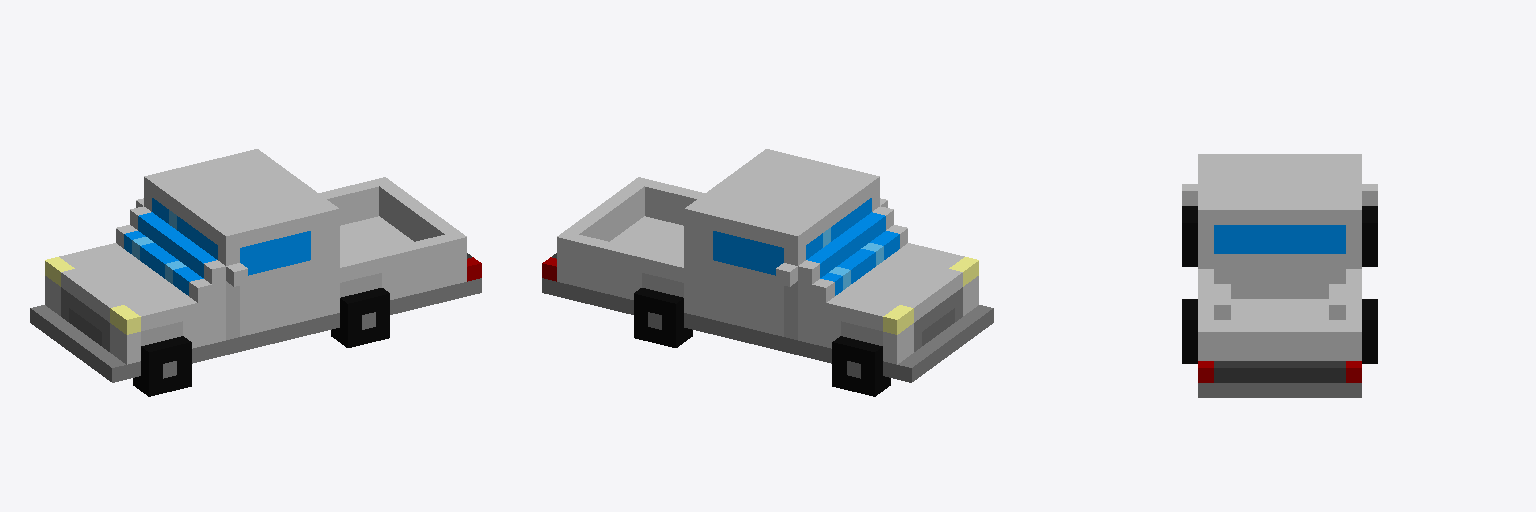
The picture shows the model from 3 angles: view 1: azimuth 30°, elevation 25°; view 2: azimuth 150°, elevation 25°; view 3: azimuth 270°, elevation 25°; orthographic projection.
Parts seen in each view (by area): view 1: Voiture_04; view 2: Voiture_04; view 3: Voiture_04.
Part boxes in pixels (bbox=[...]): Voiture_04: bbox=[30, 149, 481, 396]; Voiture_04: bbox=[542, 149, 993, 396]; Voiture_04: bbox=[1182, 154, 1377, 397].
Size of the model in its own units: 26 by 9 by 12.
1 materials, 1 textured.